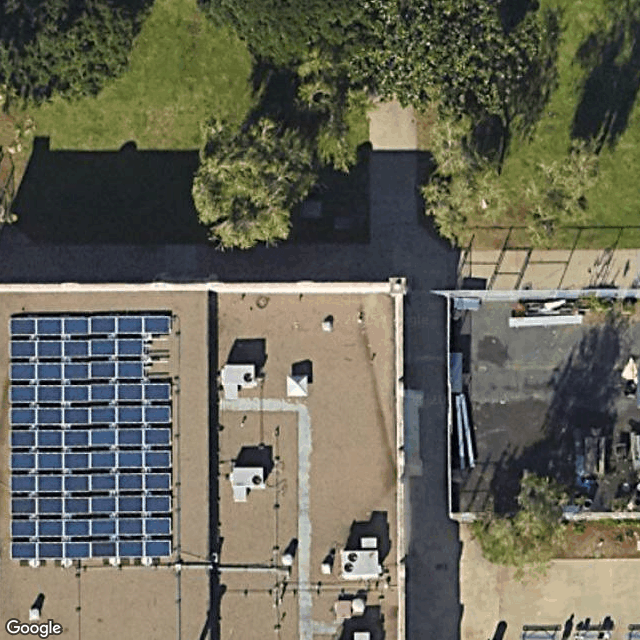palm: (188, 113, 326, 252), (416, 157, 517, 248), (524, 138, 604, 248), (426, 110, 495, 180)
